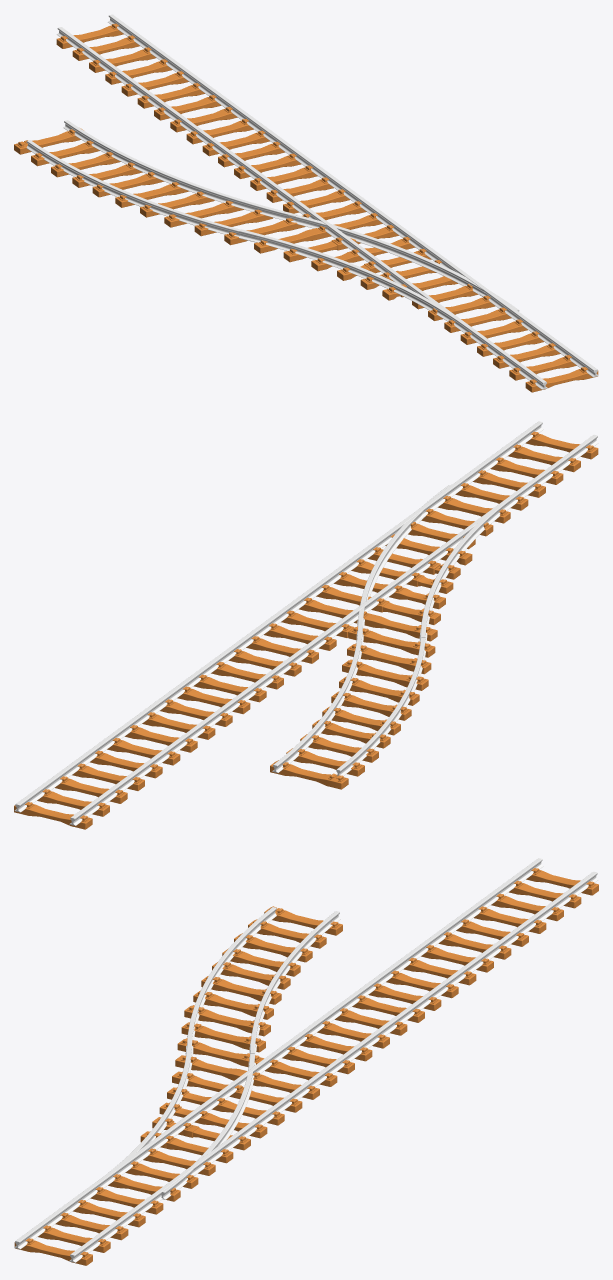
Rendered from 分叉铁轨3.fbx.
3 renders of one model, top to bottom at view 1: azimuth 30°, elevation 25°; view 2: azimuth 150°, elevation 25°; view 3: azimuth 330°, elevation 25°, orthographic. The views are drawn at different scales.
Visible parts, largest first — view 1: 立方体_7; view 2: 立方体_7; view 3: 立方体_7.
Boxes of the visible parts, <box> form: 立方体_7: <box>14,14,598,392</box>; 立方体_7: <box>14,421,598,829</box>; 立方体_7: <box>14,858,598,1265</box>.
Bounding box in the file's own units: 1470 × 82.74 × 5971.
